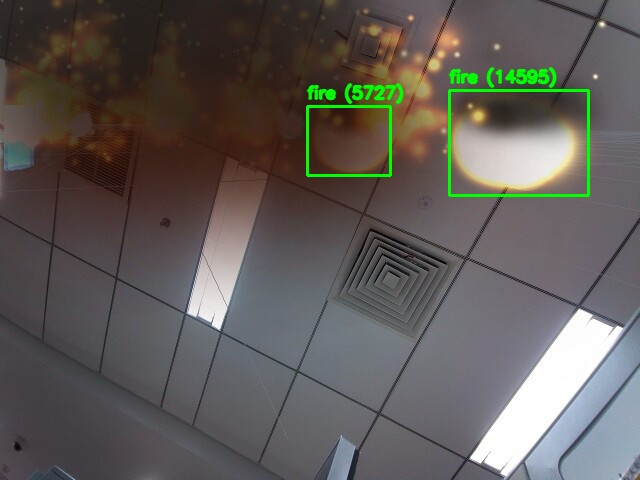fire: (449, 90, 588, 195), (307, 106, 390, 175)
